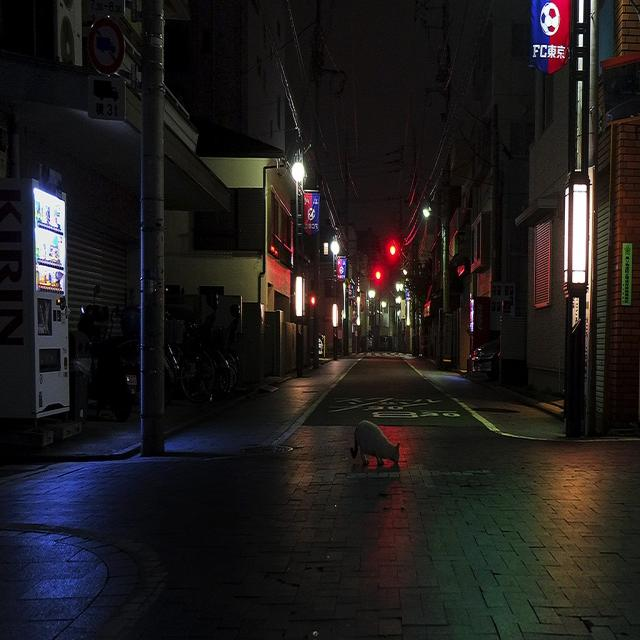Cat: (350, 410, 417, 505)
Motorbike: (57, 284, 184, 455), (147, 273, 248, 450)
